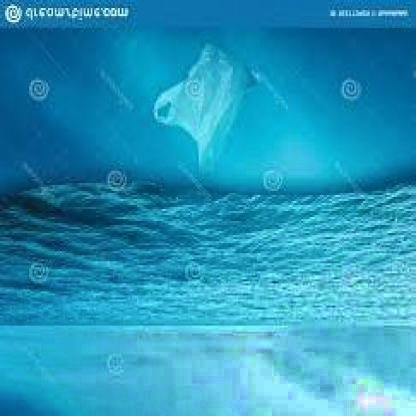pbag: (152, 40, 255, 177)
